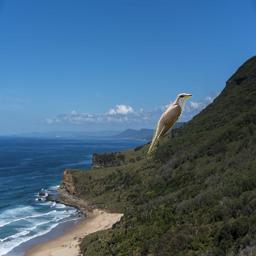Cuckoo: (145, 93, 193, 159)
